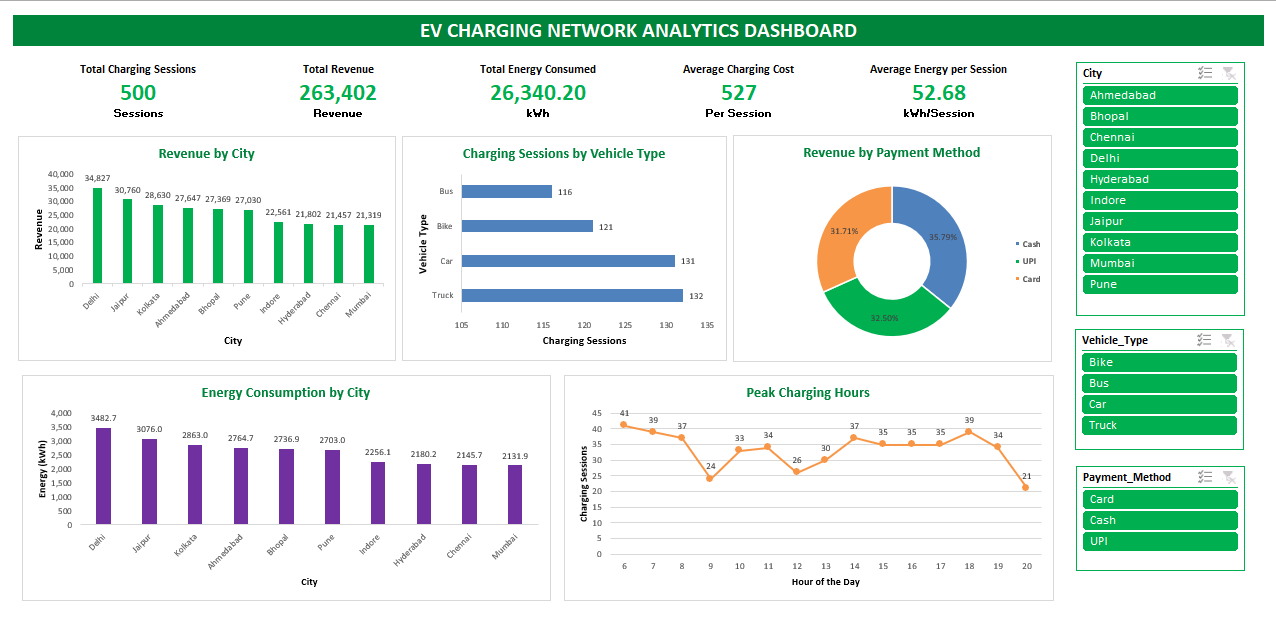

Layout of this report page (visuals, bound fields, positions):
{"tool":"powerbi","page":{"name":"Page 1","canvas":[2000,1200],"ordinal":0},"visuals":[{"type":"shape","box":[1715.7,807.9,275,225],"z":0,"group":"g10"},{"type":"shape","box":[1714.8,542.8,275,258.6],"z":1000,"group":"g9"},{"type":"shape","box":[1714.3,90,275,447.1],"z":2000,"group":"g8"},{"type":"textbox","box":[501.9,0,998,68.8],"z":3000},{"type":"textbox","box":[599.4,48.8,800.1,40.2],"z":4000},{"type":"shape","box":[8.8,88.2,1700,950],"z":5000},{"type":"textbox","box":[13.6,92.7,330,125.5],"z":6000},{"type":"textbox","box":[354,92.5,330,125.8],"z":7000},{"type":"textbox","box":[694.3,92.5,330,125.8],"z":8000},{"type":"textbox","box":[1034.7,92.7,330,125.5],"z":9000},{"type":"textbox","box":[1375,92.5,330,125.8],"z":10000},{"type":"clusteredColumnChart","title":"Revenue by City","fields":{"Category":["Table2.City"],"Y":["Table2.Total Revenue"]},"box":[16.7,223.3,665,425],"z":11000},{"type":"barChart","title":"Charging Sessions by Vehicle Type","fields":{"Category":["Table2.Vehicle_Type"],"Y":["Table2.Total Charging Sessions"]},"box":[693.9,222.8,500,425],"z":12000},{"type":"donutChart","title":"Revenue by Payment Method","fields":{"Category":["Table2.Payment_Method"],"Y":["Table2.Total Revenue"]},"box":[1204.3,222.9,500,424.3],"z":13000},{"type":"clusteredColumnChart","title":"Energy Consumption by City","fields":{"Category":["Table2.City"],"Y":["Table2.Total Energy"]},"box":[17.8,653.3,850,375.6],"z":14000},{"type":"lineChart","title":"Peak Charging Hours (by Charging Sessions)","fields":{"Category":["Table2.Charging Hour"],"Y":["CountNonNull(Table2.Station_ID)"]},"box":[873.3,653.3,830,374.4],"z":15000},{"type":"textbox","box":[1718.8,92.5,122.5,46.2],"z":16000,"group":"g8"},{"type":"slicer","title":"City","fields":{"Values":["Table2.City"]},"box":[1730,141.4,248.6,387.1],"z":17000,"group":"g8"},{"type":"textbox","box":[1717.7,547.1,135.7,45.7],"z":18000,"group":"g9"},{"type":"textbox","box":[1718.9,811.2,173.3,45.6],"z":19000,"group":"g10"},{"type":"slicer","fields":{"Values":["Table2.Payment_Method"]},"box":[1730,861.5,247.9,164.3],"z":20000,"group":"g10"},{"type":"shape","box":[8.6,1043.9,1700.7,149.1],"z":21000},{"type":"textbox","box":[163.5,1092.7,218,48.7],"z":22000},{"type":"group","id":"g1","title":"Group 2","box":[1418.9,1057.8,275.6,115.7],"z":23000},{"type":"shape","box":[370,1061.1,101.1,108.9],"z":23000,"group":"g5"},{"type":"group","id":"g2","title":"Group 4","box":[1140,1058.9,299.9,117.6],"z":24000},{"type":"textbox","box":[443.3,1058.9,220,54.3],"z":25000,"group":"g6"},{"type":"group","id":"g3","title":"Group 6","box":[894.4,1058.9,283.4,117.6],"z":25000},{"type":"group","id":"g4","title":"Group 8","box":[634.4,1058.9,290.1,117.6],"z":26000},{"type":"textbox","box":[443.3,1093.2,220,50],"z":26000,"group":"g6"},{"type":"group","id":"g5","title":"Group 10","box":[370,1058.9,293.3,114.4],"z":27000},{"type":"textbox","box":[490.4,1128.9,125.7,44.3],"z":27000,"group":"g6"},{"type":"slicer","fields":{"Values":["Table2.Vehicle_Type"]},"box":[1728.2,593.7,250,200],"z":28000,"group":"g9"},{"type":"shape","box":[634.4,1061.1,100,108.9],"z":28000,"group":"g4"},{"type":"shape","box":[79.1,1084.5,70,70],"z":28500,"group":"g7"},{"type":"group","id":"g6","title":"Group 9","box":[443.3,1058.9,220,114.4],"z":29000,"group":"g5"},{"type":"textbox","box":[704.5,1058.9,220,54.3],"z":29000,"group":"g11"},{"type":"group","id":"g7","title":"Group 11","box":[62.7,1080.9,100,74.5],"z":29000},{"type":"image","box":[62.7,1080.9,100,74.5],"z":29000,"group":"g7"},{"type":"image","box":[230.8,0,246.7,82.5],"z":30000},{"type":"textbox","box":[704.5,1094.6,220,50],"z":30000,"group":"g11"},{"type":"image","box":[1435,11.7,75,48.3],"z":31000},{"type":"textbox","box":[738.9,1130.6,152,45.9],"z":31000,"group":"g11"},{"type":"group","id":"g8","title":"Group 12","box":[1714.3,90,275,447.1],"z":31001},{"type":"group","id":"g9","title":"Group 13","box":[1714.8,542.8,275,258.6],"z":31002},{"type":"group","id":"g10","title":"Group 14","box":[1715.7,807.9,275,225],"z":31003},{"type":"image","box":[1709.3,1026.7,289.7,172.1],"z":31004},{"type":"group","id":"g11","title":"Group 7","box":[704.5,1058.9,220,117.6],"z":32000,"group":"g4"},{"type":"shape","box":[894.4,1061.1,100,108.9],"z":32000,"group":"g3"},{"type":"textbox","box":[957.8,1058.9,220,54.3],"z":33000,"group":"g12"},{"type":"textbox","box":[957.8,1094.6,220,50],"z":34000,"group":"g12"},{"type":"group","id":"g12","title":"Group 5","box":[957.8,1058.9,220,117.6],"z":35000,"group":"g3"},{"type":"textbox","box":[992.2,1133.5,152,43],"z":35000,"group":"g12"},{"type":"shape","box":[1140,1061.1,100,108.9],"z":36000,"group":"g2"},{"type":"textbox","box":[1219.9,1058.9,220,54.3],"z":37000,"group":"g13"},{"type":"group","id":"g13","title":"Group 3","box":[1219.9,1058.9,220,117.6],"z":38000,"group":"g2"},{"type":"textbox","box":[1219.9,1094.6,220,50],"z":38000,"group":"g13"},{"type":"textbox","box":[1242.8,1130.6,174.9,45.9],"z":39000,"group":"g13"},{"type":"shape","box":[1418.9,1061.1,100,108.9],"z":40000,"group":"g1"},{"type":"textbox","box":[1474.4,1057.8,220,54.4],"z":41000,"group":"g14"},{"type":"textbox","box":[1471.1,1093.5,220,50],"z":42000,"group":"g14"},{"type":"textbox","box":[1506.8,1129.2,150,44.3],"z":43000,"group":"g14"},{"type":"group","id":"g14","title":"Group 1","box":[1471.1,1057.8,223.3,115.7],"z":43001,"group":"g1"}]}

Visuals, with their boxes on the page's 2000x1200 design canvas (x1, y1, x2, y2). These are canvas units, not pixel positions in the 1276x617 screenshot, which may show the page scaled, cropped or inside an application window:
shape: bbox(1716, 808, 1991, 1033)
shape: bbox(1715, 543, 1990, 801)
shape: bbox(1714, 90, 1989, 537)
textbox: bbox(502, 0, 1500, 69)
textbox: bbox(599, 49, 1400, 89)
shape: bbox(9, 88, 1709, 1038)
textbox: bbox(14, 93, 344, 218)
textbox: bbox(354, 92, 684, 218)
textbox: bbox(694, 92, 1024, 218)
textbox: bbox(1035, 93, 1365, 218)
textbox: bbox(1375, 92, 1705, 218)
"Revenue by City" clusteredColumnChart: bbox(17, 223, 682, 648)
"Charging Sessions by Vehicle Type" barChart: bbox(694, 223, 1194, 648)
"Revenue by Payment Method" donutChart: bbox(1204, 223, 1704, 647)
"Energy Consumption by City" clusteredColumnChart: bbox(18, 653, 868, 1029)
"Peak Charging Hours (by Charging Sessions)" lineChart: bbox(873, 653, 1703, 1028)
textbox: bbox(1719, 92, 1841, 139)
"City" slicer: bbox(1730, 141, 1979, 528)
textbox: bbox(1718, 547, 1853, 593)
textbox: bbox(1719, 811, 1892, 857)
slicer - Table2.Payment_Method: bbox(1730, 862, 1978, 1026)
shape: bbox(9, 1044, 1709, 1193)
textbox: bbox(164, 1093, 382, 1141)
"Group 2" group: bbox(1419, 1058, 1694, 1174)
shape: bbox(370, 1061, 471, 1170)
"Group 4" group: bbox(1140, 1059, 1440, 1176)
textbox: bbox(443, 1059, 663, 1113)
"Group 6" group: bbox(894, 1059, 1178, 1176)
"Group 8" group: bbox(634, 1059, 924, 1176)
textbox: bbox(443, 1093, 663, 1143)
"Group 10" group: bbox(370, 1059, 663, 1173)
textbox: bbox(490, 1129, 616, 1173)
slicer - Table2.Vehicle_Type: bbox(1728, 594, 1978, 794)
shape: bbox(634, 1061, 734, 1170)
shape: bbox(79, 1084, 149, 1154)
"Group 9" group: bbox(443, 1059, 663, 1173)
textbox: bbox(704, 1059, 924, 1113)
"Group 11" group: bbox(63, 1081, 163, 1155)
image: bbox(63, 1081, 163, 1155)
image: bbox(231, 0, 478, 82)
textbox: bbox(704, 1095, 924, 1145)
image: bbox(1435, 12, 1510, 60)
textbox: bbox(739, 1131, 891, 1176)
"Group 12" group: bbox(1714, 90, 1989, 537)
"Group 13" group: bbox(1715, 543, 1990, 801)
"Group 14" group: bbox(1716, 808, 1991, 1033)
image: bbox(1709, 1027, 1999, 1199)
"Group 7" group: bbox(704, 1059, 924, 1176)
shape: bbox(894, 1061, 994, 1170)
textbox: bbox(958, 1059, 1178, 1113)
textbox: bbox(958, 1095, 1178, 1145)
"Group 5" group: bbox(958, 1059, 1178, 1176)
textbox: bbox(992, 1134, 1144, 1176)
shape: bbox(1140, 1061, 1240, 1170)
textbox: bbox(1220, 1059, 1440, 1113)
"Group 3" group: bbox(1220, 1059, 1440, 1176)
textbox: bbox(1220, 1095, 1440, 1145)
textbox: bbox(1243, 1131, 1418, 1176)
shape: bbox(1419, 1061, 1519, 1170)
textbox: bbox(1474, 1058, 1694, 1112)
textbox: bbox(1471, 1094, 1691, 1144)
textbox: bbox(1507, 1129, 1657, 1174)
"Group 1" group: bbox(1471, 1058, 1694, 1174)
